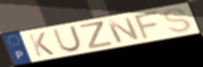F: (133, 9, 161, 41)
K: (26, 31, 57, 58)
N: (104, 16, 143, 45)
S: (161, 7, 194, 34)
U: (51, 24, 84, 53)
Z: (78, 20, 115, 50)
